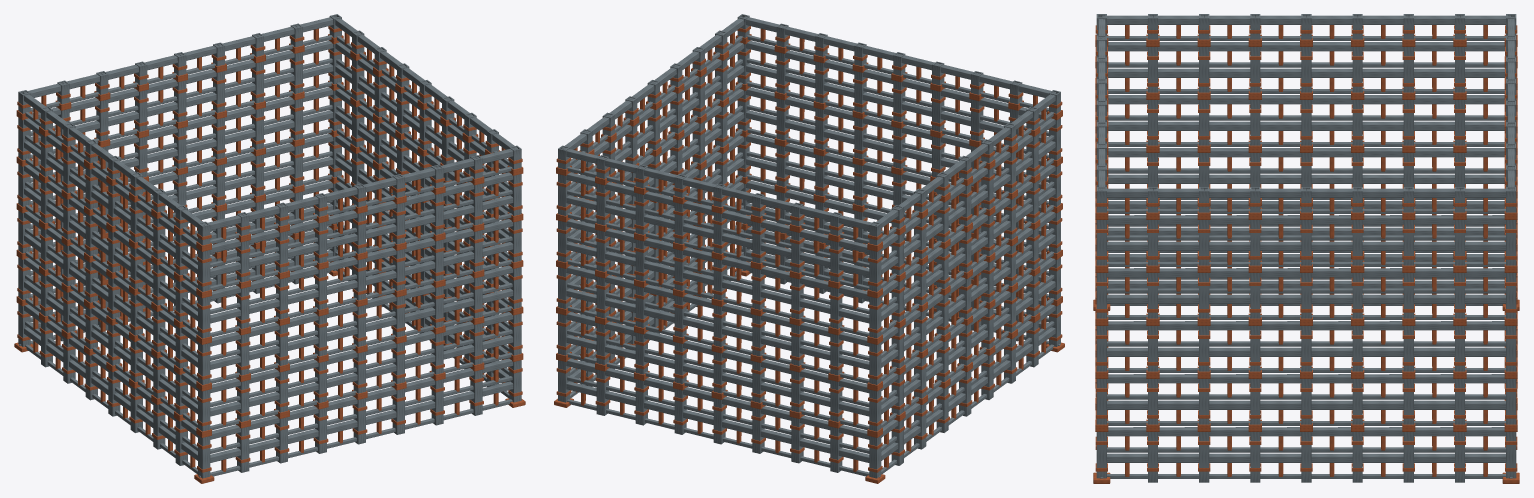
The picture shows the model from 3 angles, left to right: view 1: azimuth 30°, elevation 25°; view 2: azimuth 150°, elevation 25°; view 3: azimuth 270°, elevation 25°; orthographic projection. The views are drawn at different scales.
Visible parts, largest first — view 1: no part large enough to name; view 2: no part large enough to name; view 3: Tier 0 side 1 post 4, Tier 0 side 1 post 2, Tier 0 side 1 post 3, Tier 0 side 1 post 5, Tier 0 side 1 post 6.
Boxes of the visible parts, x1,y1,x2,y2 form: Tier 0 side 1 post 4: (1301,432,1311,482); Tier 0 side 1 post 2: (1199,432,1209,482); Tier 0 side 1 post 3: (1250,432,1260,482); Tier 0 side 1 post 5: (1352,432,1362,482); Tier 0 side 1 post 6: (1403,432,1413,482).
Bounding box in the file's own units: 3.75 × 2.83 × 3.75.
2 materials, 2 textured.
